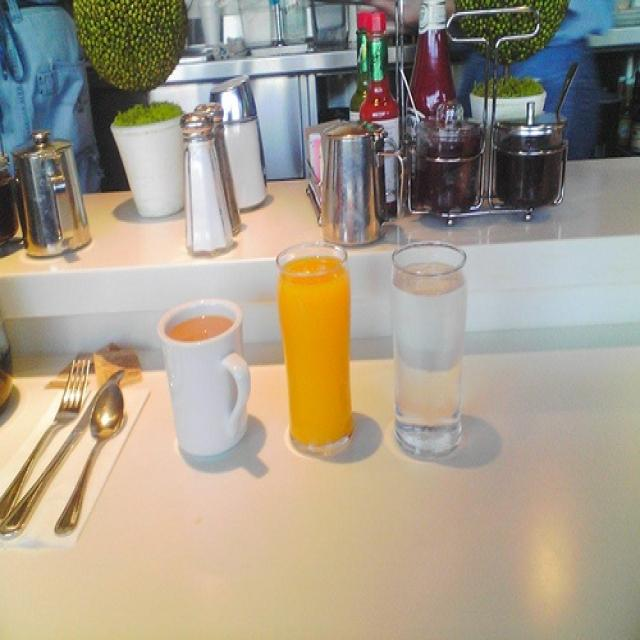bottle: (362, 12, 403, 210), (410, 0, 456, 150)
pottedplant: (76, 0, 206, 215), (448, 0, 574, 114)
